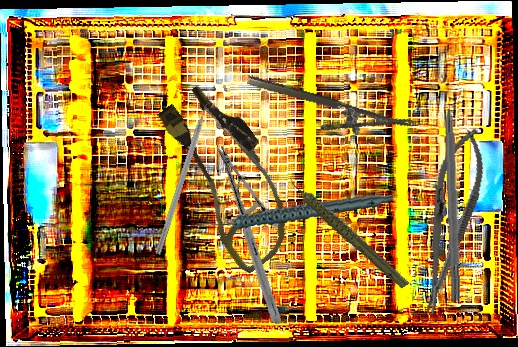Cannula: (138, 75, 319, 277)
Chopper: (154, 92, 222, 259)
Handpiece: (286, 153, 411, 309), (201, 177, 394, 244)
Hook Surgical: (442, 78, 464, 303)
Needle Holder: (156, 144, 342, 326), (405, 122, 495, 320), (240, 74, 415, 153)
